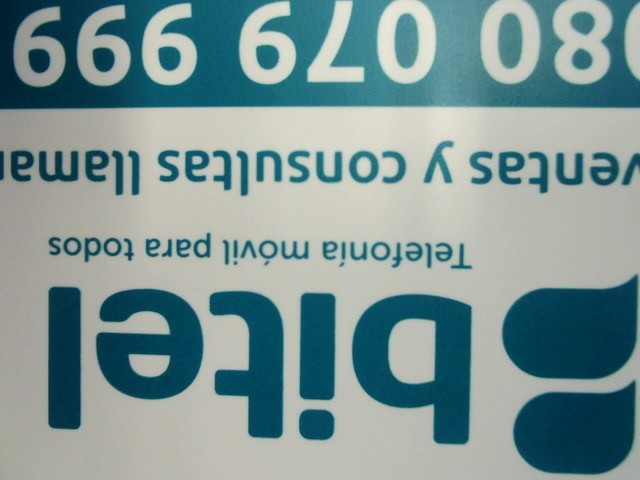BE_bitel: (37, 269, 639, 471)
